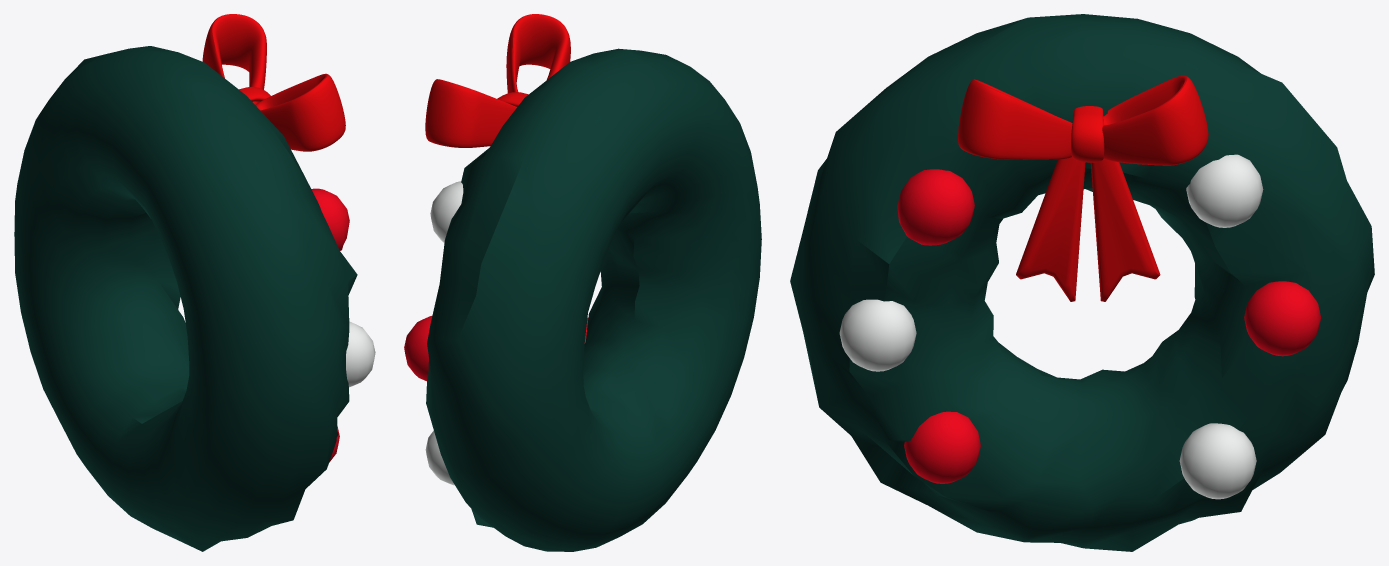
Rendered from wreath.fbx.
3 renders of one model, left to right at view 1: azimuth 30°, elevation 25°; view 2: azimuth 150°, elevation 25°; view 3: azimuth 270°, elevation 25°, orthographic. The views are drawn at different scales.
Visible parts, largest first — view 1: wreath; view 2: wreath; view 3: wreath.
Boxes of the visible parts, box(x1,y1,x2,y2) form: wreath: box(14, 14, 375, 551); wreath: box(404, 14, 761, 551); wreath: box(790, 14, 1374, 551).
Size of the model in its own units: 0.3081 by 0.7053 by 0.7233.
